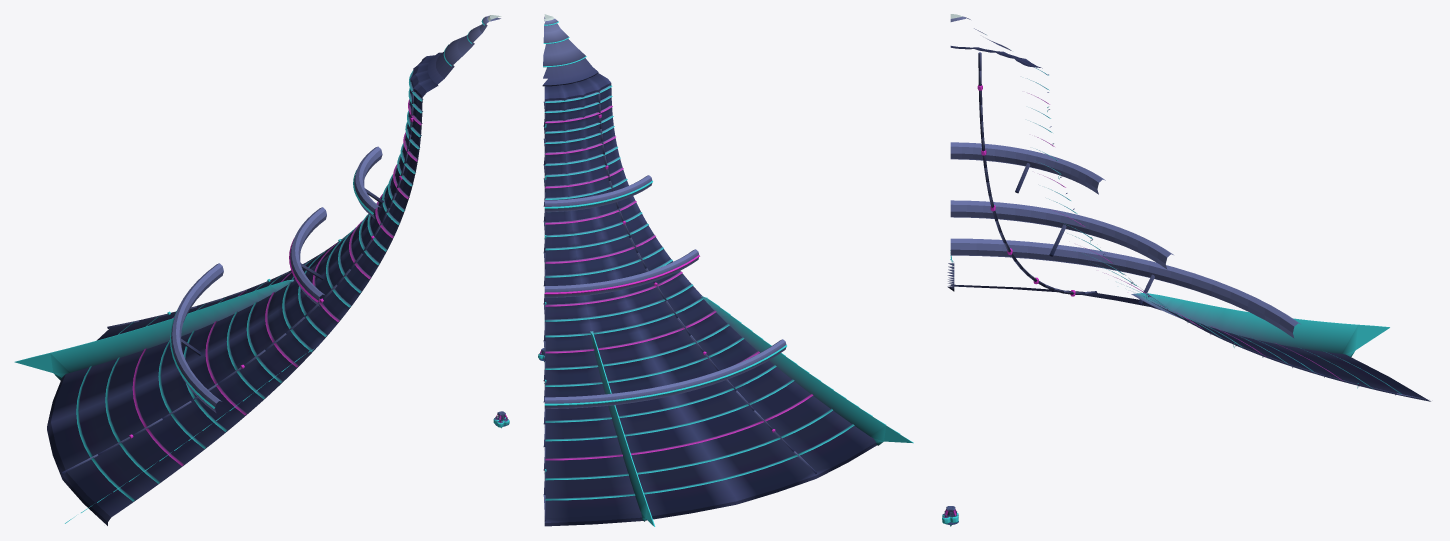
The model's file is core-s4-C068QSrJ.glb.
3 views of the same model, side by side, from view 1: azimuth 30°, elevation 25°; view 2: azimuth 150°, elevation 25°; view 3: azimuth 270°, elevation 25° (orthographic). The views are drawn at different scales.
Parts seen in each view (by area): view 1: sc_landmark_2; view 2: sc_landmark_2; view 3: sc_landmark_2.
Part boxes in pixels (x1,y1,x2,y2): sc_landmark_2: (14, 15, 501, 525); sc_landmark_2: (542, 14, 913, 526); sc_landmark_2: (947, 14, 1430, 401).
Size of the model in its own units: 422 by 377 by 331.
